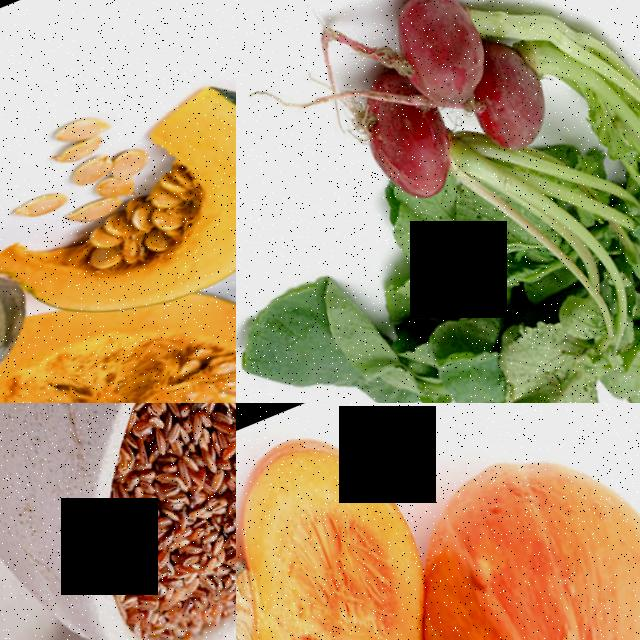pumpkin: (0, 60, 236, 353), (371, 403, 640, 640), (236, 417, 507, 640), (0, 278, 236, 403), (0, 210, 43, 403)
radishes: (315, 0, 637, 327)
red rice: (43, 403, 236, 640)
